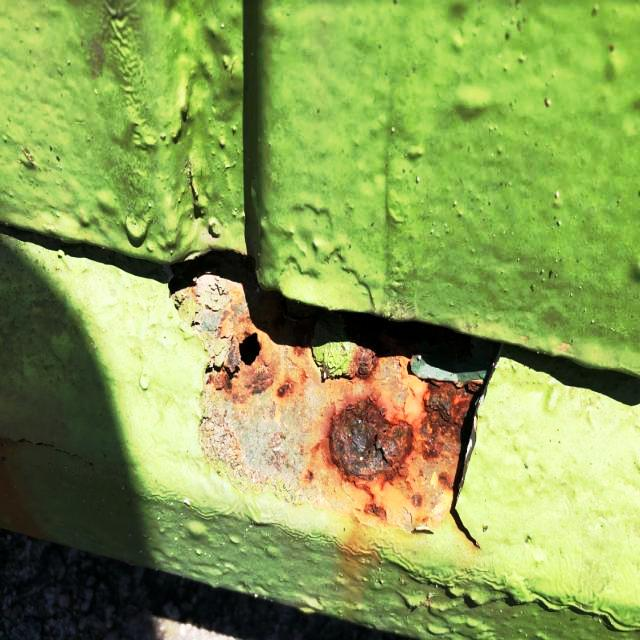Corrosion: (166, 251, 494, 543)
